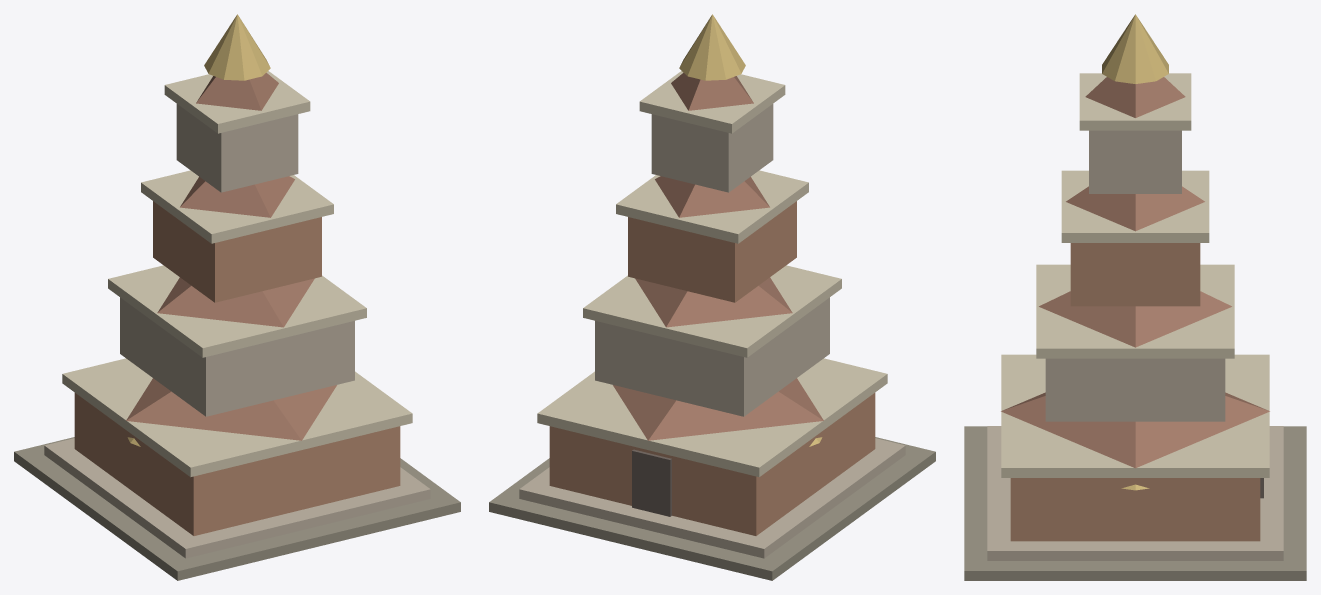
The model's file is thatbyinnyu.glb.
The picture shows the model from 3 angles, left to right: view 1: azimuth 30°, elevation 25°; view 2: azimuth 150°, elevation 25°; view 3: azimuth 270°, elevation 25°; orthographic projection. The views are drawn at different scales.
Size of the model in its own units: 3.7 by 5.9 by 3.7.
